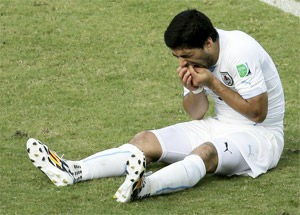fall: (16, 7, 286, 204)
